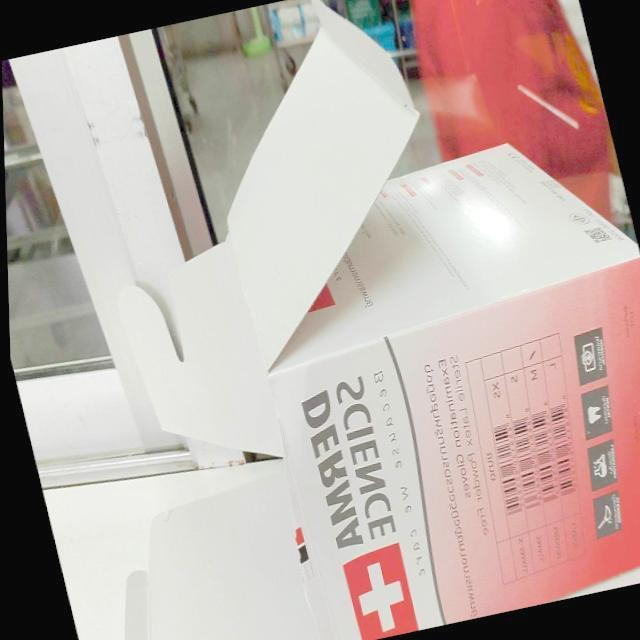General: (6, 2, 639, 637), (265, 141, 639, 637)
Sharps: (515, 80, 584, 132)
